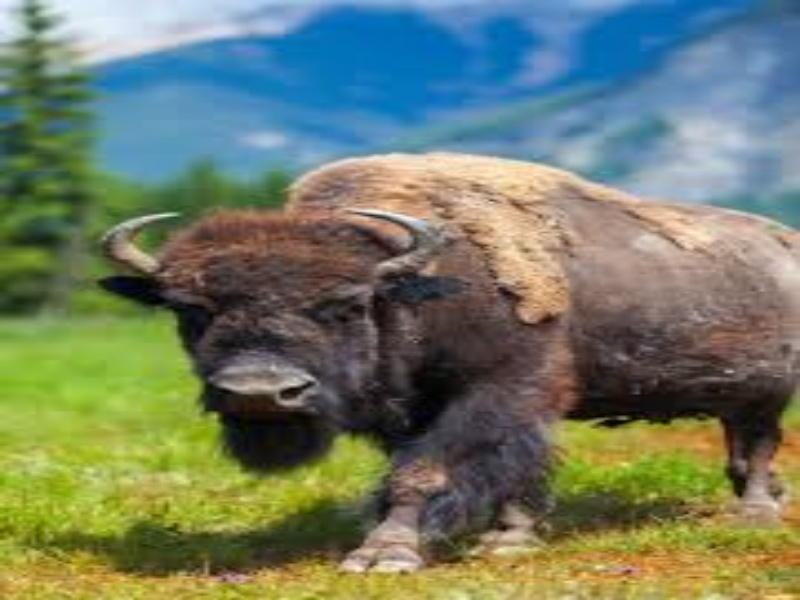buffalo: (92, 144, 787, 569)
